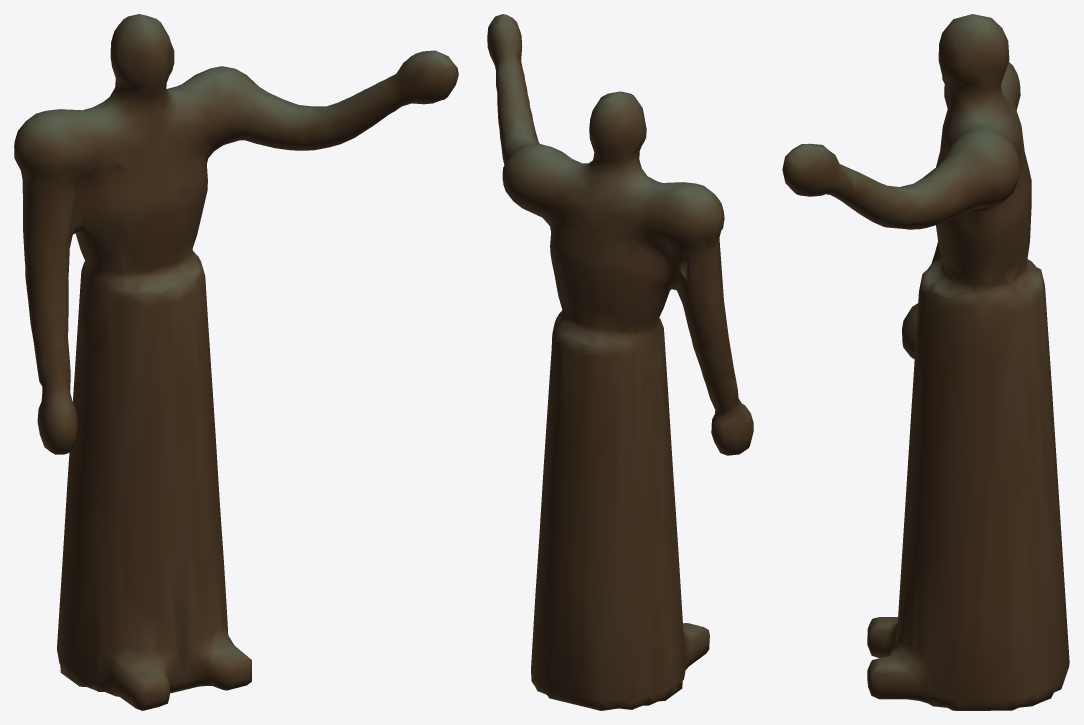
Rendered from street0.glb.
The picture shows the model from 3 angles, left to right: view 1: azimuth 30°, elevation 25°; view 2: azimuth 150°, elevation 25°; view 3: azimuth 270°, elevation 25°; orthographic projection. The views are drawn at different scales.
Parts seen in each view (by area): view 1: sv_m; view 2: sv_m; view 3: sv_m.
Boxes of the visible parts, x1=… form: sv_m: x1=14, y1=14, x2=458, y2=710; sv_m: x1=487, y1=14, x2=753, y2=710; sv_m: x1=782, y1=14, x2=1069, y2=710.
Size of the model in its own units: 0.5633 by 1 by 0.3951.
